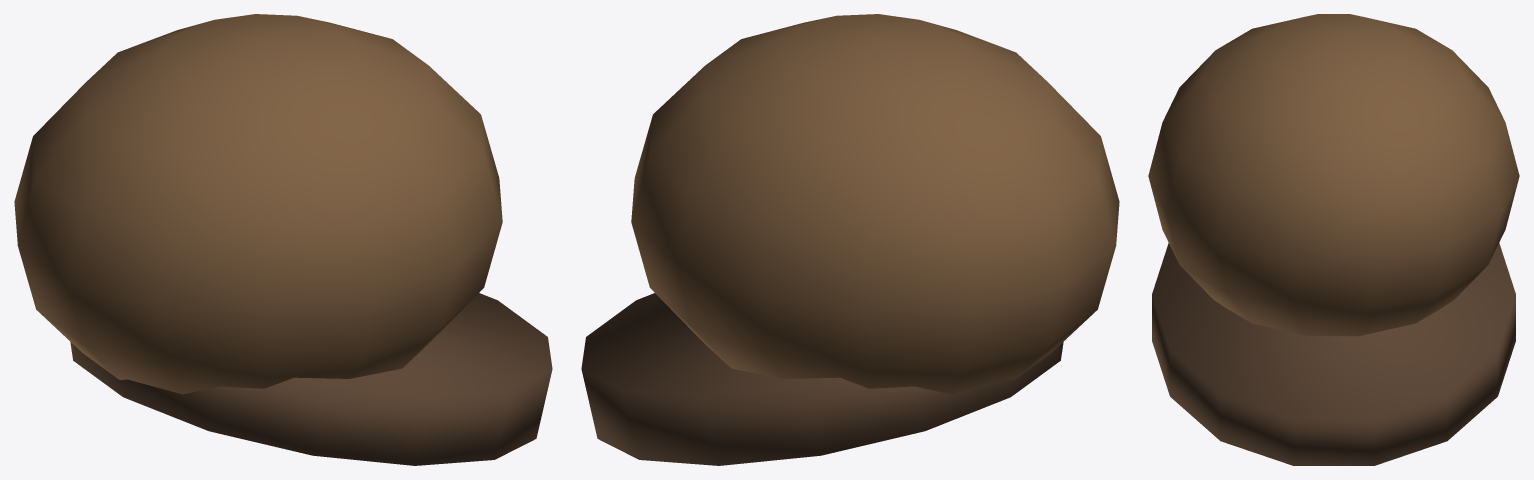
File: ombreira_de_couro.glb
The picture shows the model from 3 angles, left to right: view 1: azimuth 30°, elevation 25°; view 2: azimuth 150°, elevation 25°; view 3: azimuth 270°, elevation 25°; orthographic projection. The views are drawn at different scales.
Parts seen in each view (by area): view 1: Cylinder; view 2: Cylinder; view 3: Cylinder.
Boxes of the visible parts, x1,y1,x2,y2 form: Cylinder: [14, 14, 552, 465]; Cylinder: [581, 14, 1119, 465]; Cylinder: [1148, 14, 1519, 465].
Bounding box in the file's own units: 0.1846 × 0.151 × 0.153.
